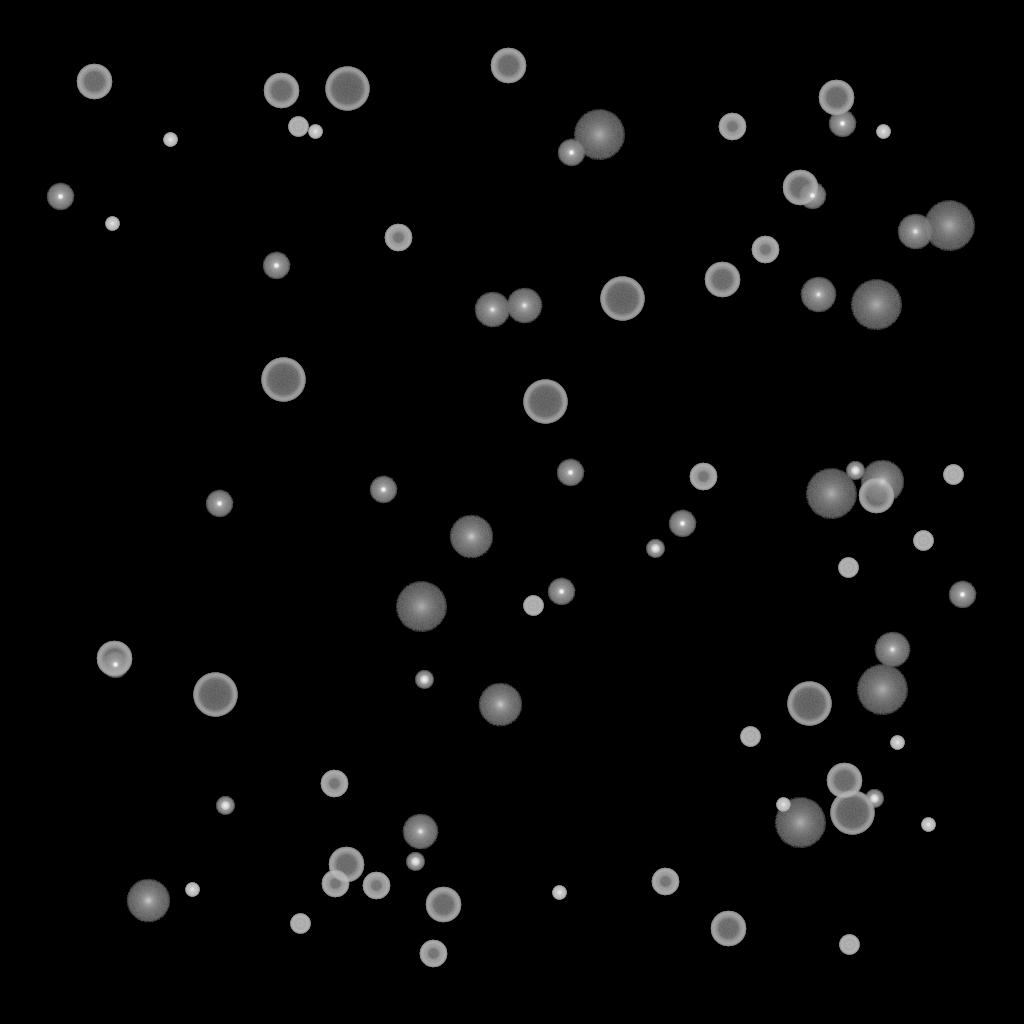depth:-10: (556, 459, 584, 487), (101, 651, 129, 679), (798, 182, 826, 210), (948, 581, 976, 609), (46, 183, 74, 211), (557, 139, 585, 167), (668, 510, 696, 538), (205, 490, 233, 518), (369, 476, 397, 504), (828, 110, 856, 138), (262, 252, 290, 280), (547, 578, 575, 606)
depth:-20: (846, 462, 864, 480), (865, 790, 883, 808), (406, 853, 424, 871), (216, 797, 234, 815), (415, 671, 433, 689), (646, 540, 664, 558)
depth:-30: (308, 125, 322, 139), (876, 125, 890, 139), (552, 886, 566, 900), (163, 133, 177, 147), (890, 736, 904, 750), (921, 818, 935, 832), (105, 217, 119, 231), (185, 883, 199, 897), (776, 798, 790, 812)
depth:-40: (740, 727, 760, 747), (838, 558, 858, 578), (913, 531, 933, 551), (288, 117, 308, 137), (839, 935, 859, 955), (523, 596, 543, 616), (290, 914, 310, 934), (943, 465, 963, 485)
depth:-50: (419, 940, 447, 968), (651, 868, 679, 896), (384, 224, 412, 252), (689, 463, 717, 491), (362, 872, 390, 900), (321, 870, 349, 898), (320, 770, 348, 798), (751, 236, 779, 264), (718, 113, 746, 141)
depth:-60: (490, 48, 526, 84), (710, 911, 746, 947), (328, 847, 364, 883), (782, 170, 818, 206), (858, 478, 894, 514), (76, 64, 112, 100), (263, 73, 299, 109), (704, 262, 740, 298), (826, 763, 862, 799), (96, 641, 132, 677), (818, 80, 854, 116), (425, 887, 461, 923)
depth:-70: (830, 791, 874, 835), (523, 380, 567, 424), (193, 673, 237, 717), (261, 358, 305, 402), (600, 277, 644, 321), (325, 67, 369, 111), (787, 682, 831, 726)
depth:0: (897, 214, 933, 250), (506, 288, 542, 324), (874, 632, 910, 668), (800, 277, 836, 313), (474, 292, 510, 328), (402, 814, 438, 850)
depth:10: (860, 460, 904, 504), (126, 879, 170, 923), (478, 683, 522, 727), (449, 515, 493, 559)
depth:20: (395, 582, 447, 632), (805, 469, 857, 519), (856, 665, 908, 715), (923, 201, 975, 251), (573, 110, 625, 160), (774, 798, 826, 848), (850, 280, 902, 330)
